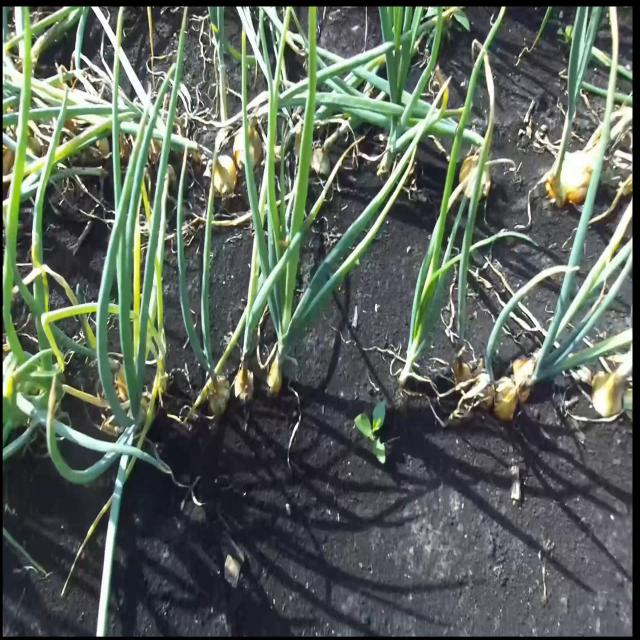onion: (562, 150, 592, 208), (592, 371, 625, 420), (492, 376, 519, 426), (230, 126, 258, 172), (211, 154, 238, 198), (205, 370, 230, 416), (447, 358, 469, 394), (475, 371, 493, 412), (543, 174, 564, 208), (237, 368, 254, 404), (266, 362, 282, 395)
